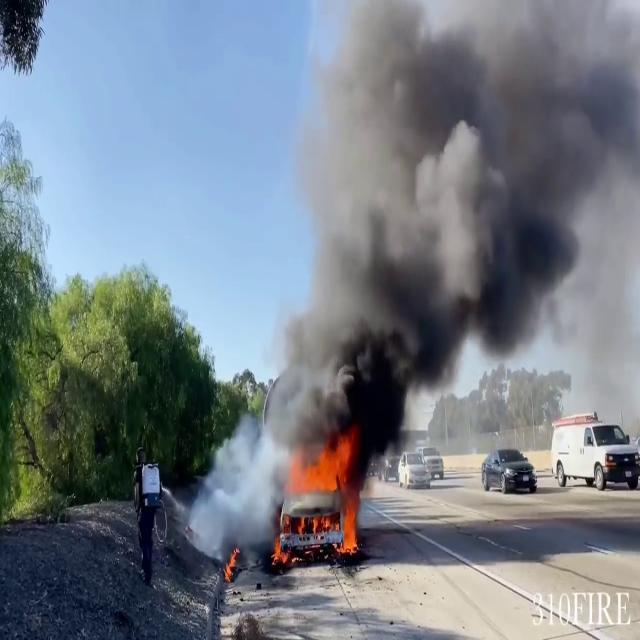Fire: (288, 424, 364, 553)
Smoke: (274, 0, 640, 456), (188, 399, 298, 573)
